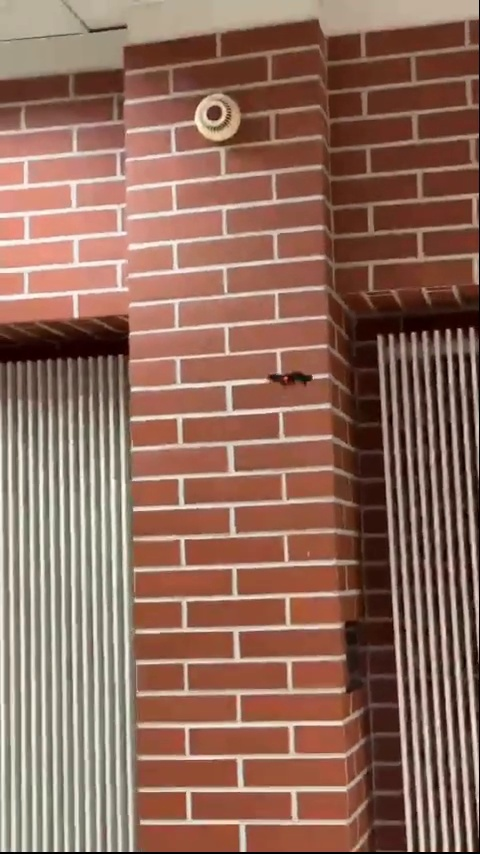drone: (270, 368, 311, 394)
